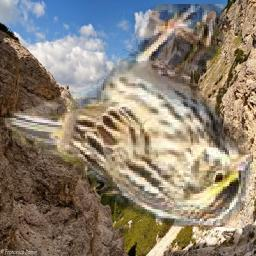Sparrow: (1, 5, 253, 228)
